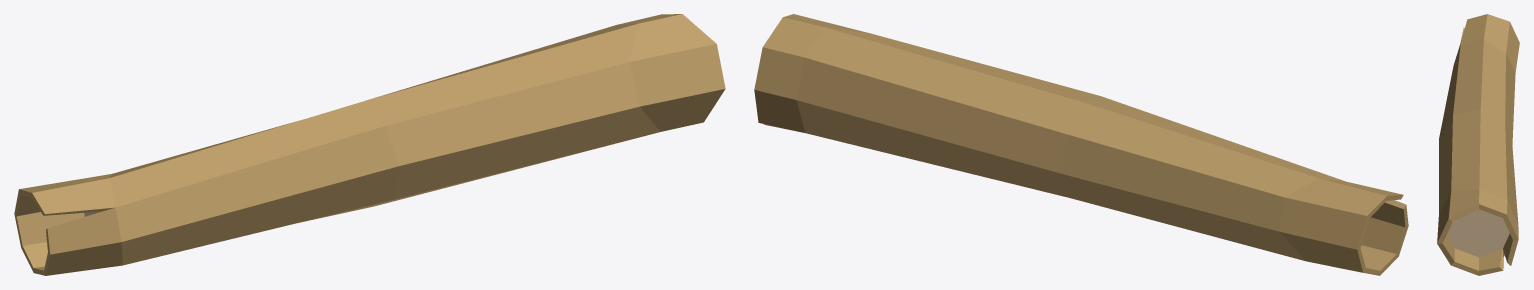
File: Oak_Log_07.fbx
3 renders of one model, left to right at view 1: azimuth 30°, elevation 25°; view 2: azimuth 150°, elevation 25°; view 3: azimuth 270°, elevation 25°, orthographic. The views are drawn at different scales.
Visible parts, largest first — view 1: Oak_Log_07; view 2: Oak_Log_07; view 3: Oak_Log_07.
Boxes of the visible parts, box(x1,y1,x2,y2) form: Oak_Log_07: box(14, 14, 725, 275); Oak_Log_07: box(754, 14, 1408, 275); Oak_Log_07: box(1437, 14, 1519, 275).
Size of the model in its own units: 347 by 58.35 by 57.27.
